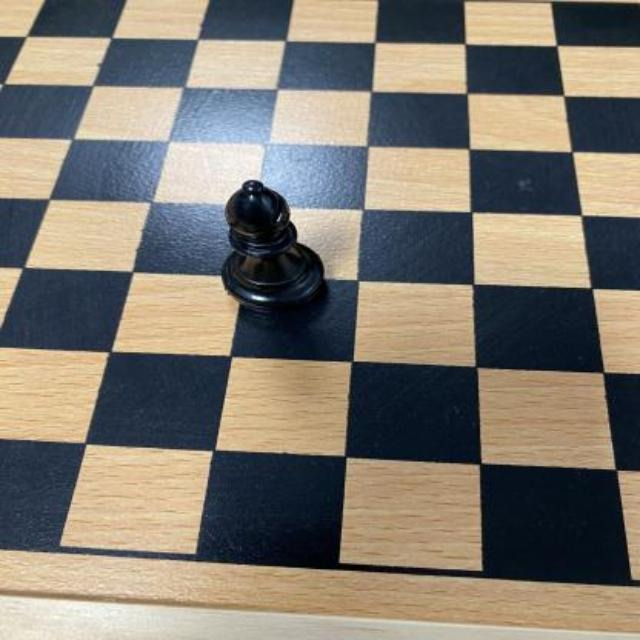black-bishop: (216, 177, 326, 310)
